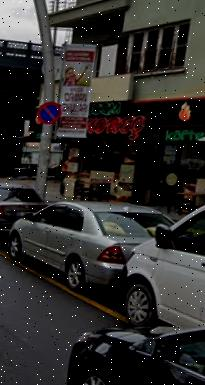nopark: (38, 103, 61, 125)
